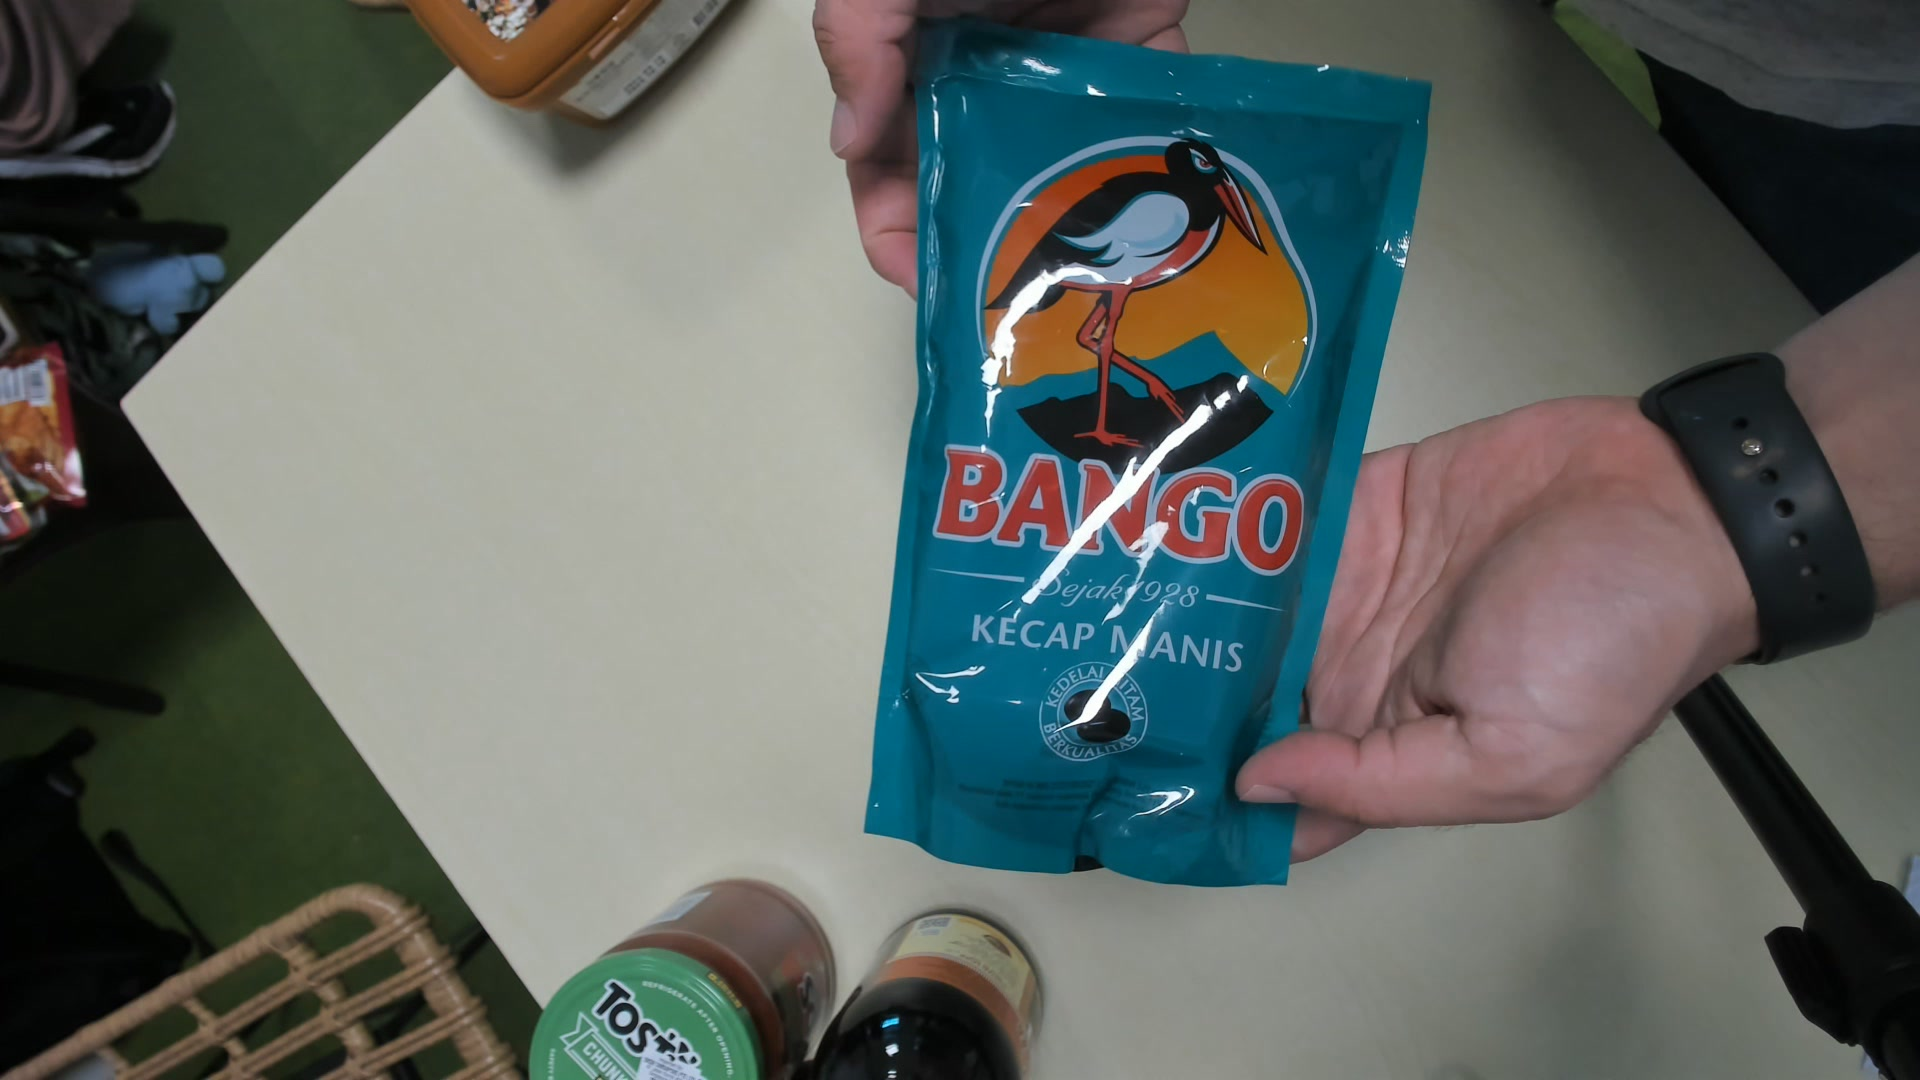OtherSauceDressing_500-599g_NonHalal_NonHealthy: (866, 34, 1412, 885)
